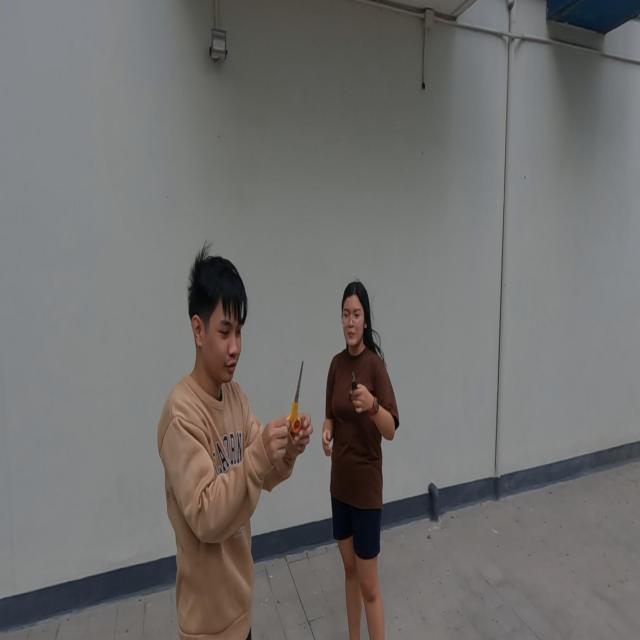scissor: (287, 359, 304, 433)
